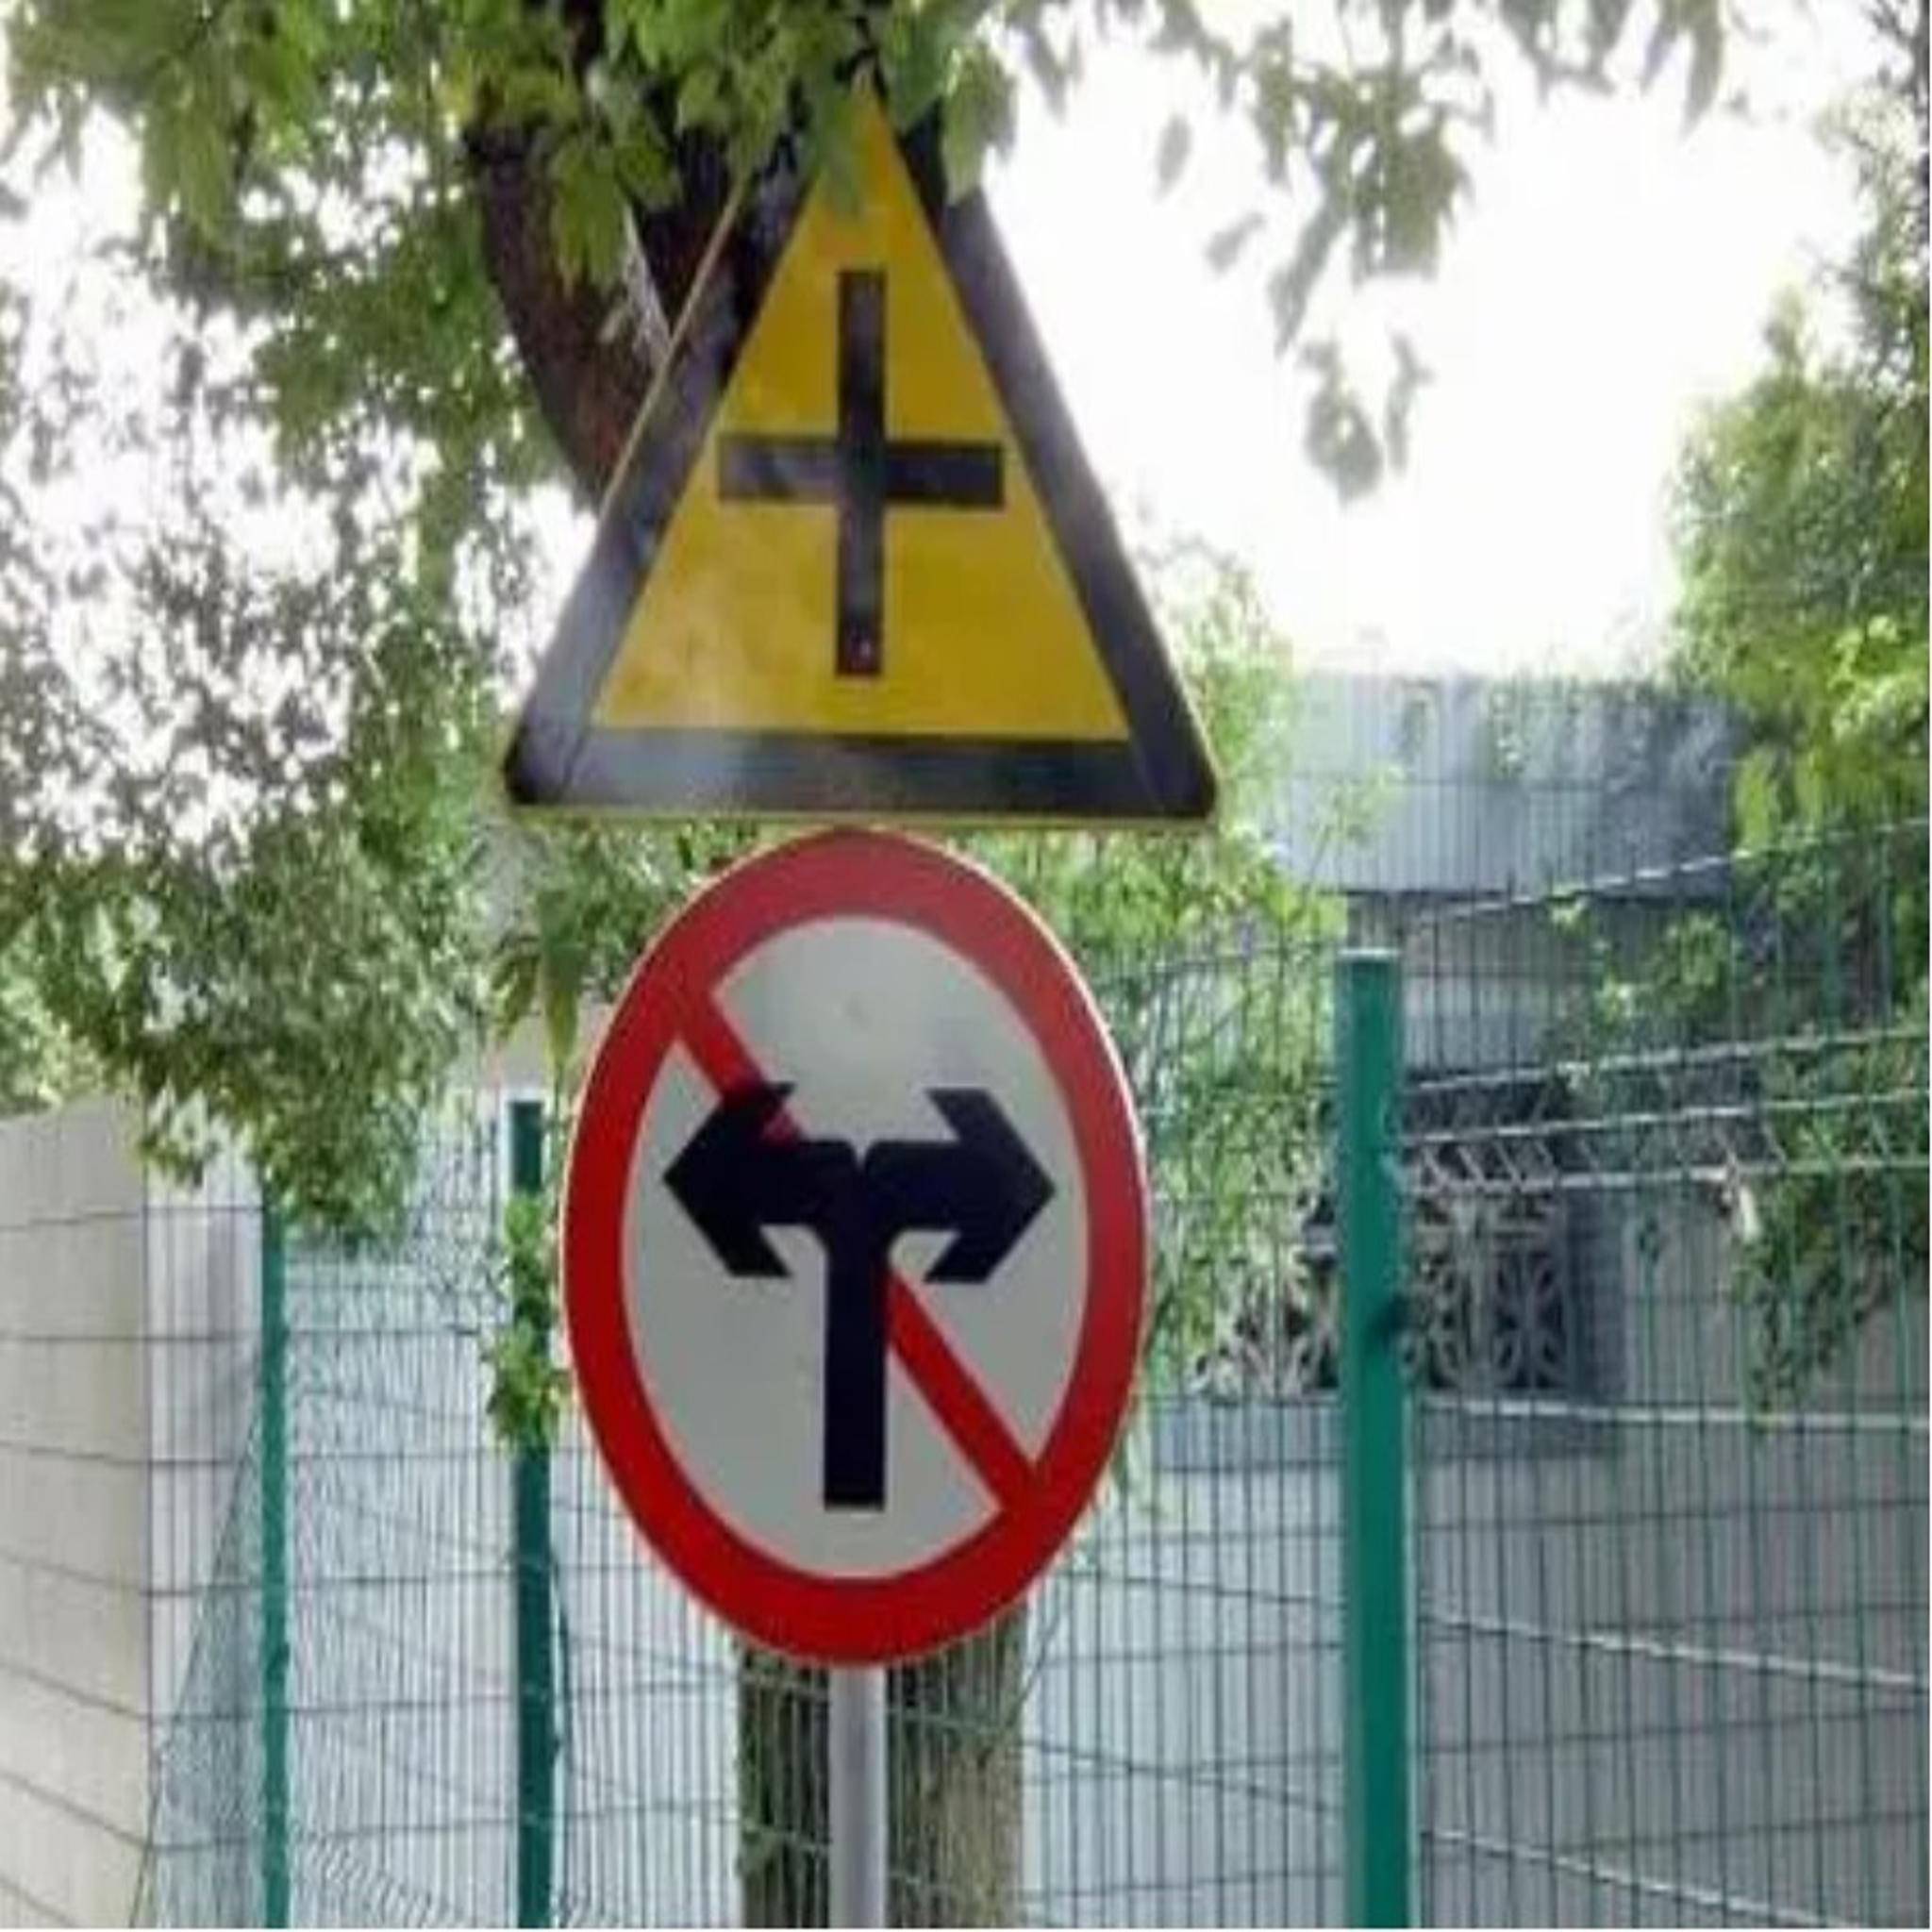w13: (501, 64, 1226, 830)
